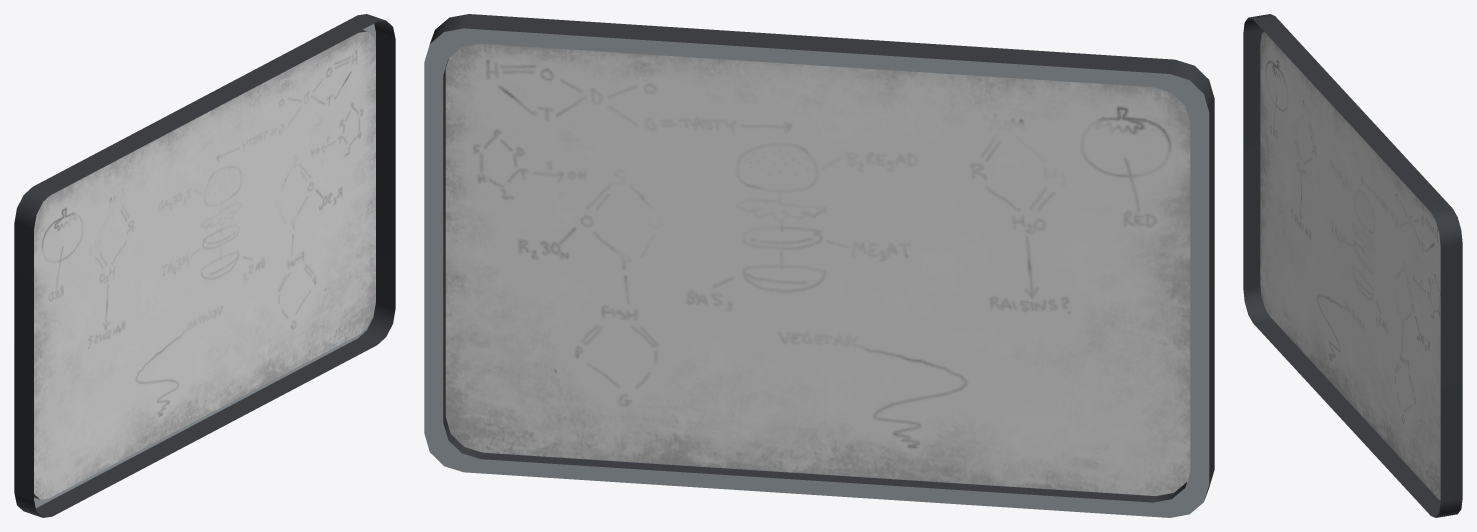
The model's file is TestChamber_Whiteboard.fbx.
The picture shows the model from 3 angles, left to right: view 1: azimuth 30°, elevation 25°; view 2: azimuth 150°, elevation 25°; view 3: azimuth 270°, elevation 25°; orthographic projection. The views are drawn at different scales.
Parts seen in each view (by area): view 1: TestChamber_Whiteboard; view 2: TestChamber_Whiteboard; view 3: TestChamber_Whiteboard.
Part boxes in pixels (x1,y1,x2,y2): TestChamber_Whiteboard: [14, 14, 395, 517]; TestChamber_Whiteboard: [424, 14, 1214, 517]; TestChamber_Whiteboard: [1243, 14, 1462, 517].
Bounding box in the file's own units: 3.2 × 2.09 × 1.37.
1 material, 1 textured.
